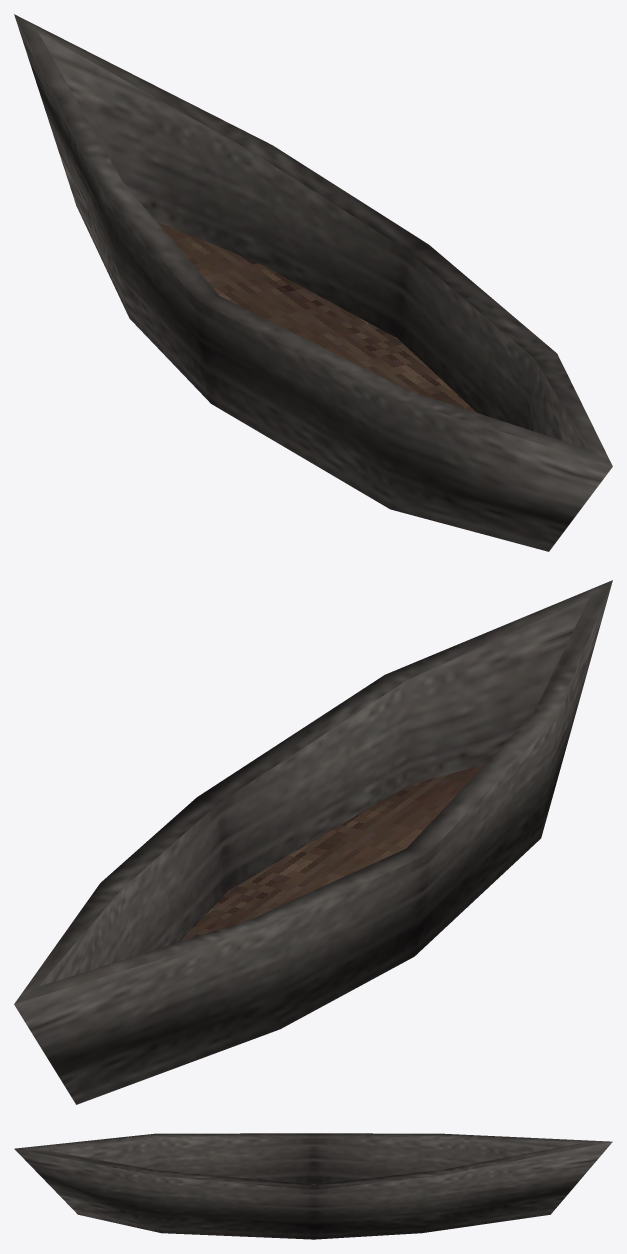
The model's file is BOAT_ACTORDEF.fbx.
3 renders of one model, top to bottom at view 1: azimuth 30°, elevation 25°; view 2: azimuth 150°, elevation 25°; view 3: azimuth 270°, elevation 25°, orthographic. The views are drawn at different scales.
Parts seen in each view (by area): view 1: U3DMesh; view 2: U3DMesh; view 3: U3DMesh.
Boxes of the visible parts, bbox=[...] form: U3DMesh: bbox=[14, 14, 612, 551]; U3DMesh: bbox=[14, 580, 612, 1104]; U3DMesh: bbox=[14, 1133, 612, 1239].
Size of the model in its own units: 6.1 by 3.68 by 27.29.
